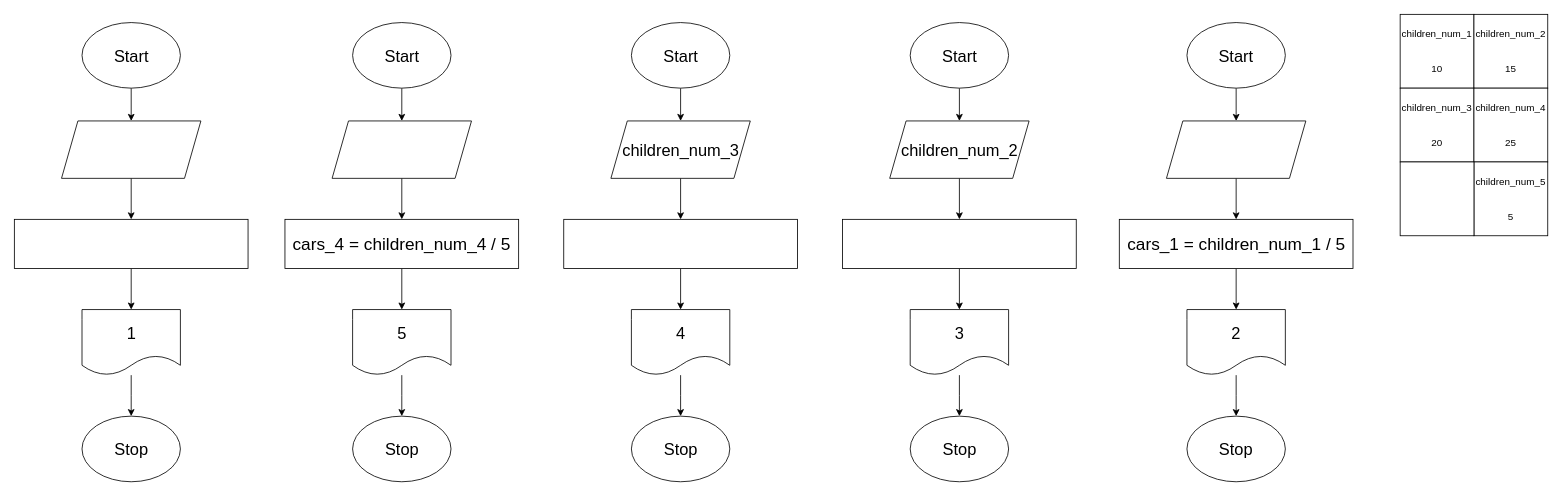
Some shapes in this 1562 by 496 pixel diagram are drawn without their labels. Each missing label, with the centre of its shape:
"cars_2 = children_num_2 / 5" goes at [959,244].
"cars_3 = children_num_3 / 5" goes at [680,244].
"cars_5 = children_num_5 / 5" goes at [131,244].
"children_num_1" goes at [1236,149].
"children_num_4" goes at [401,149].
"children_num_5" goes at [131,149].
